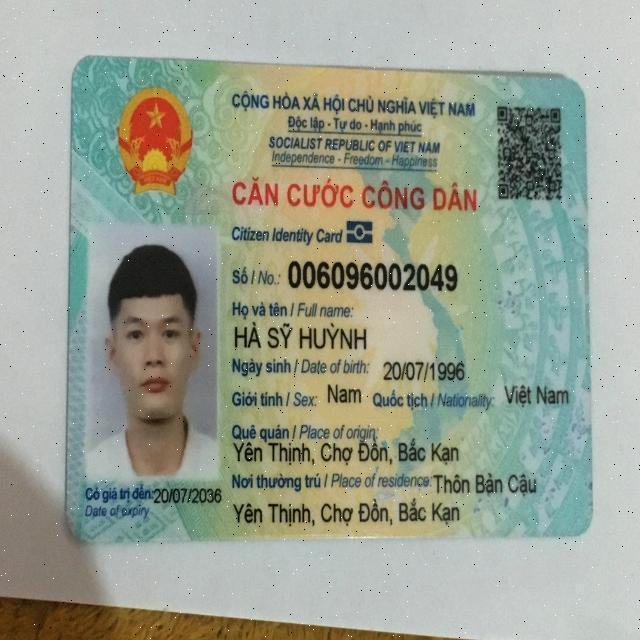current_place: (230, 498, 461, 526), (431, 469, 541, 497)
dob: (381, 359, 469, 380)
expire_date: (151, 479, 225, 509)
gender: (327, 377, 364, 406)
id: (287, 253, 458, 296)
name: (233, 314, 370, 353)
nationality: (498, 379, 577, 409)
origin_place: (229, 440, 461, 469)
